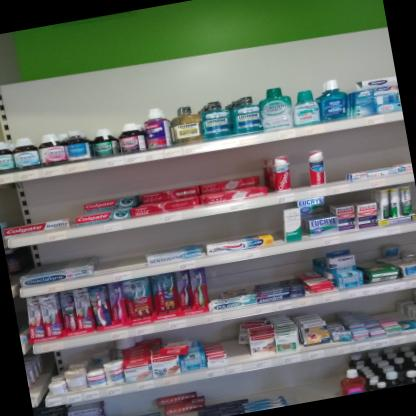empty_space: (95, 229, 142, 271), (290, 383, 339, 404), (289, 151, 312, 189), (325, 147, 349, 183), (267, 210, 286, 243), (227, 340, 248, 359), (406, 184, 416, 217)
